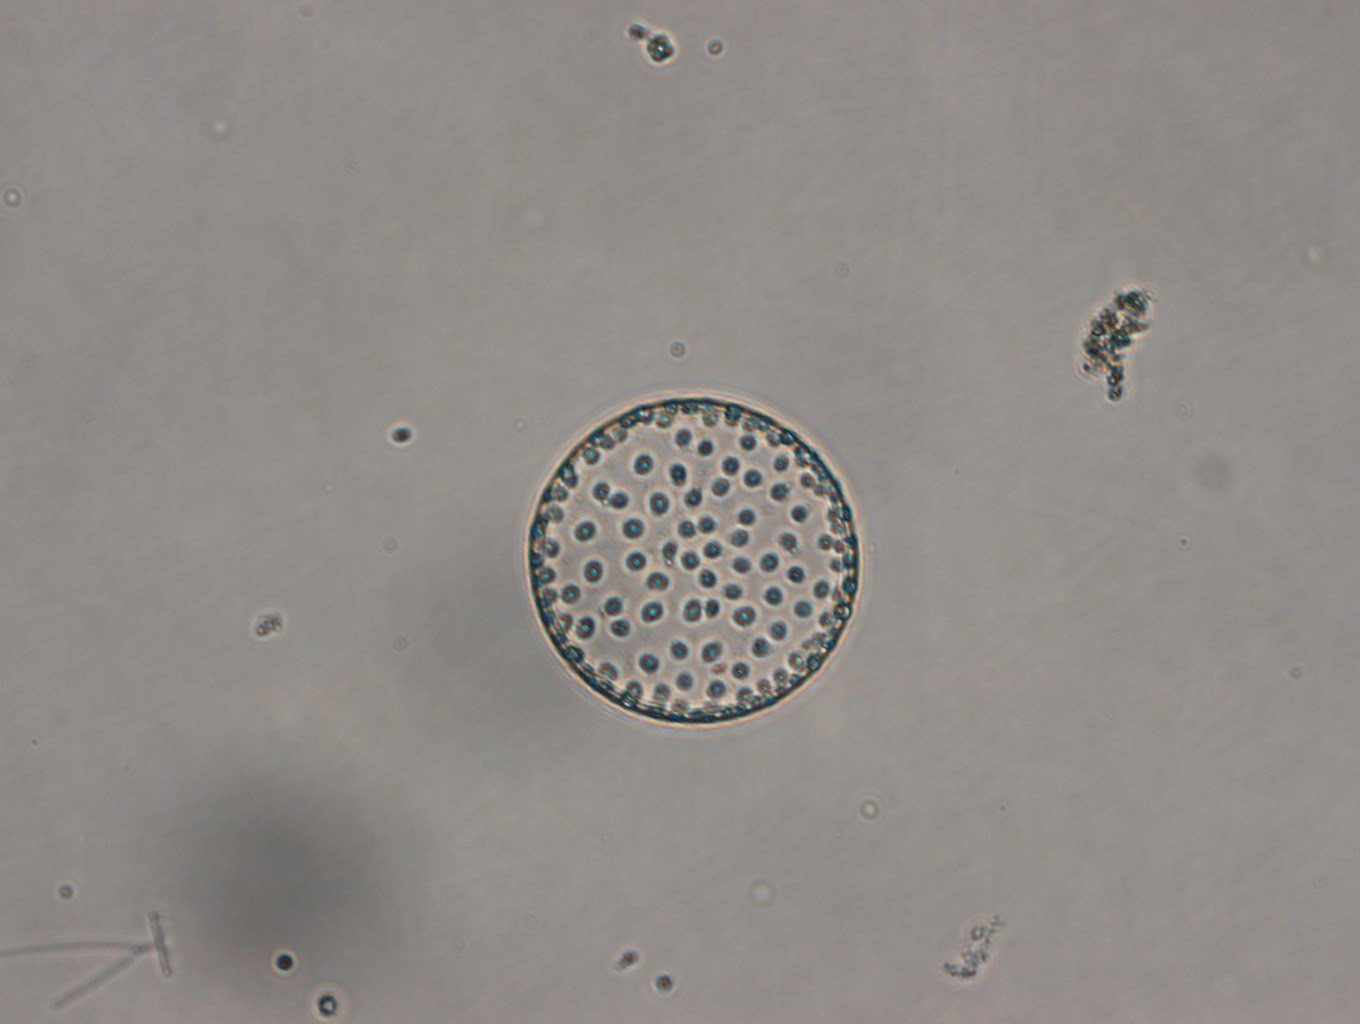coscinodiscus: (522, 393, 862, 727)
